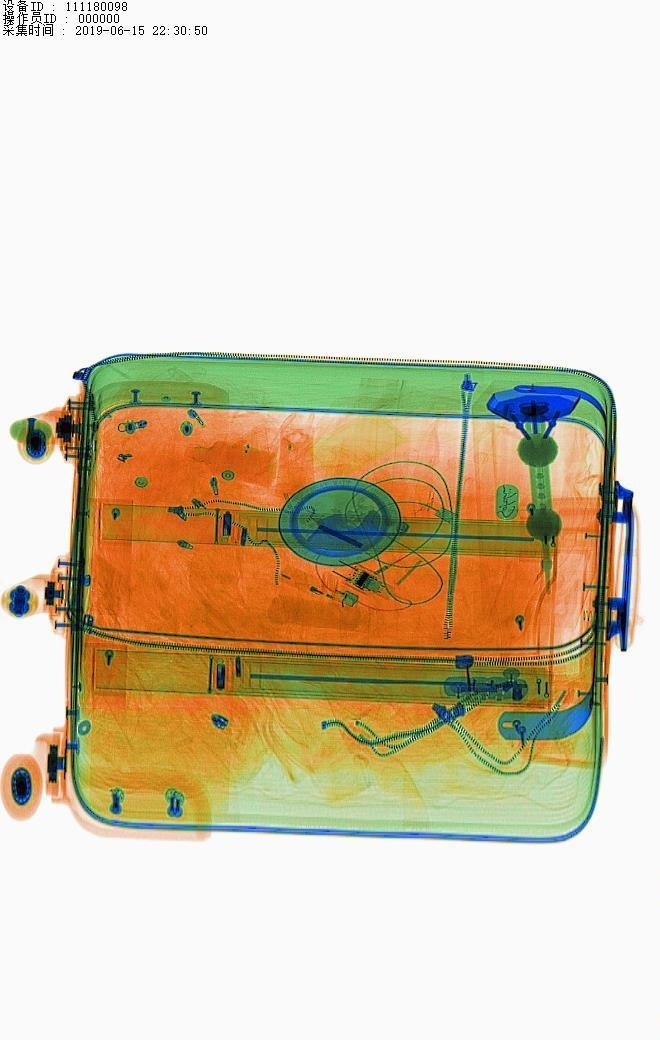NonmetallicFire: (273, 552, 362, 618)
